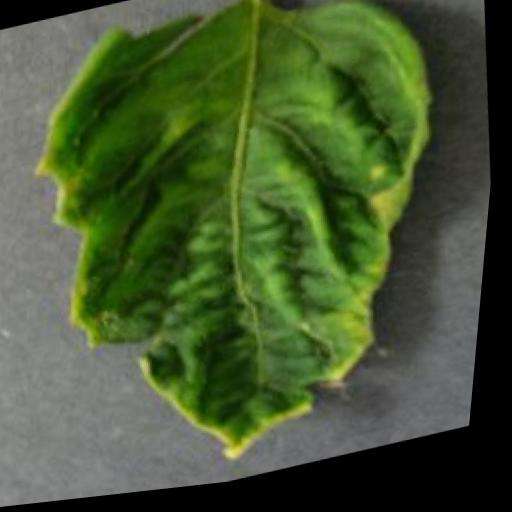Yellow Leaf Curl Virus: (0, 0, 483, 509)
